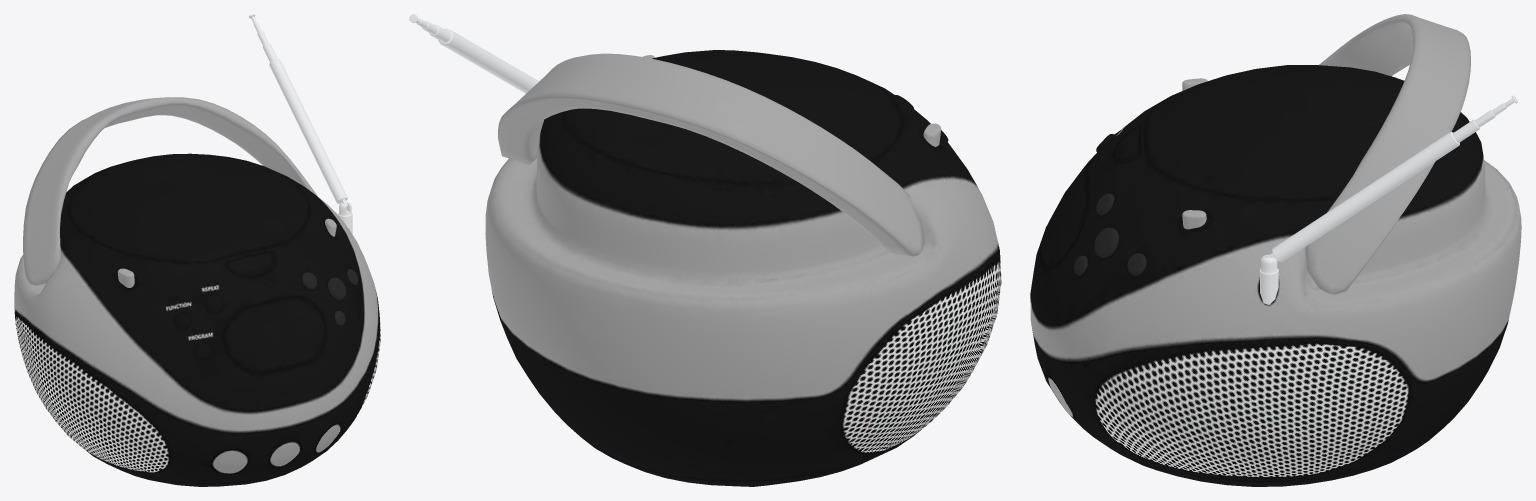
The model's file is boom_box.glb.
3 views of the same model, side by side, from view 1: azimuth 30°, elevation 25°; view 2: azimuth 150°, elevation 25°; view 3: azimuth 270°, elevation 25° (orthographic). The views are drawn at different scales.
Visible parts, largest first — view 1: BoomBox; view 2: BoomBox; view 3: BoomBox.
Boxes of the visible parts, left/top/right/bottom form: BoomBox: left=14, top=14, right=380, bottom=486; BoomBox: left=409, top=14, right=1001, bottom=486; BoomBox: left=1030, top=14, right=1521, bottom=486.
Bounding box in the file's own units: 0.0198 × 0.0195 × 0.0202.
1 material, 1 textured.
